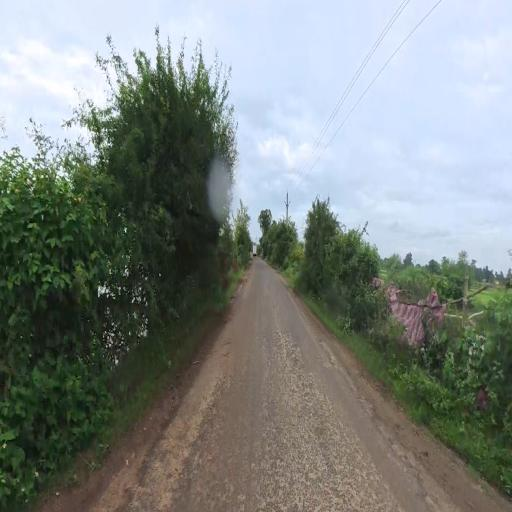edge_damage: (94, 360, 245, 506)
ravelling: (264, 331, 376, 508)
